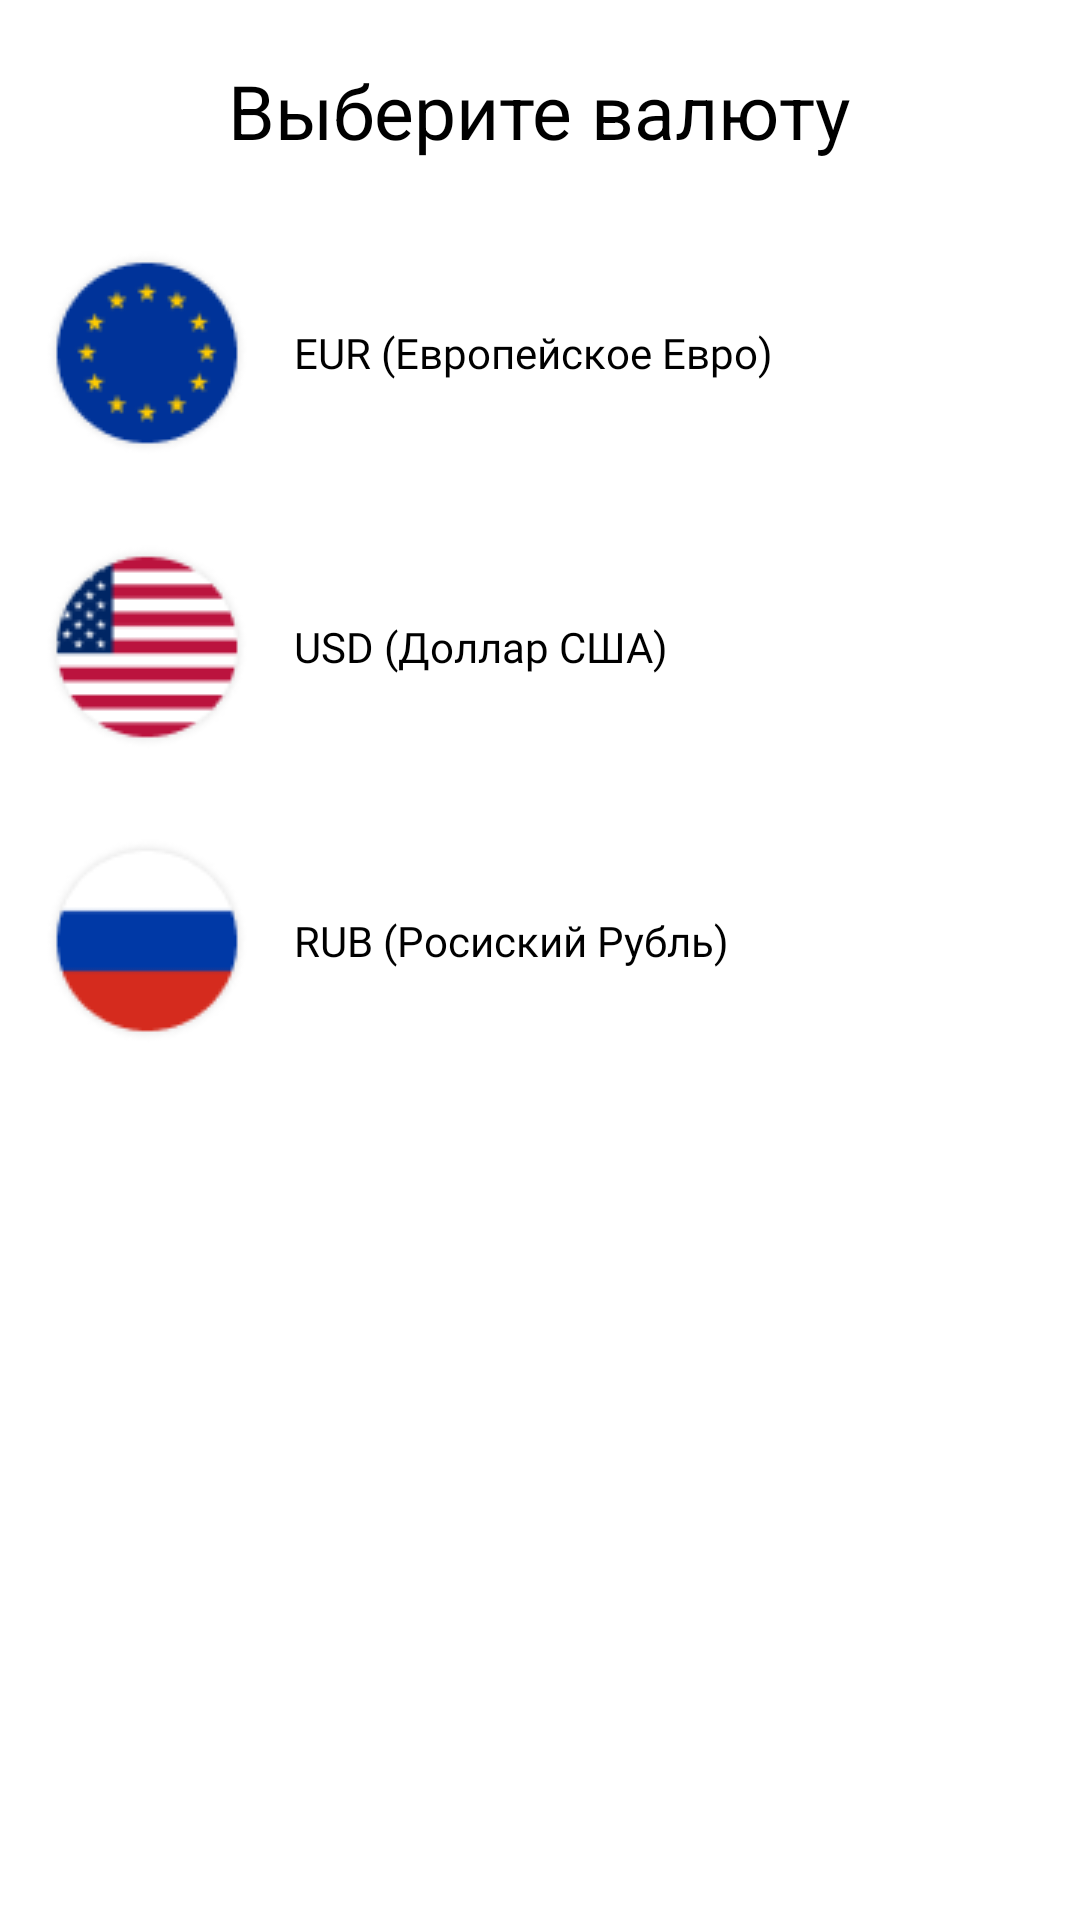

Named icons in this screenshot (1080 × 1920) and their centers, [x,y]:
euro: [147,353]
usa: [147,647]
